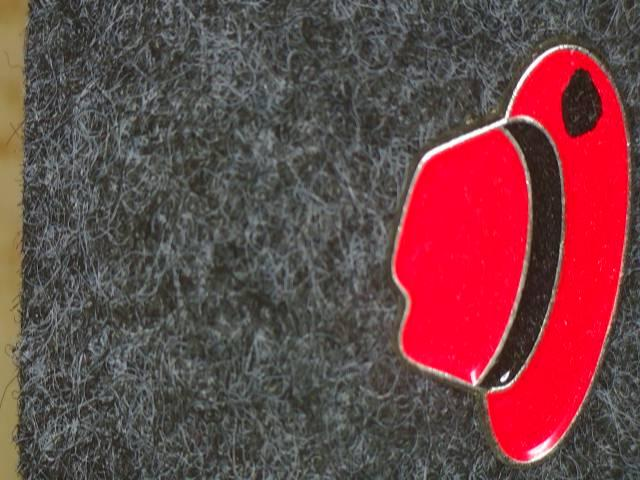Red-Hat: (356, 14, 640, 478)
Scratch: (541, 52, 609, 152)
